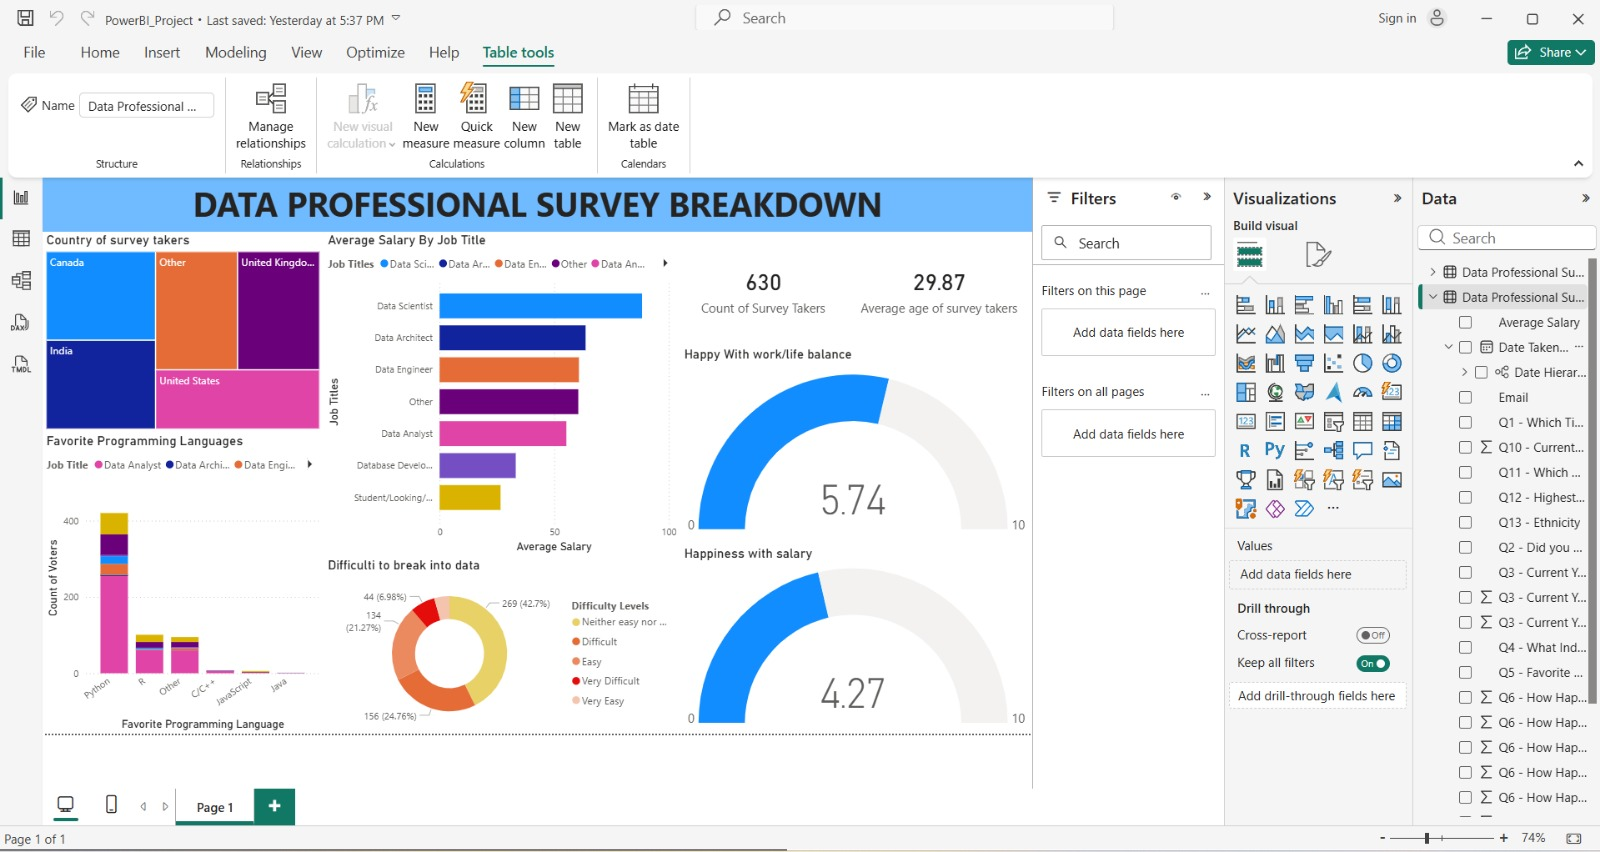

This screenshot's page, from the dashboard's own definition file:
{"tool":"powerbi","page":{"name":"Page 1","canvas":[1280,720],"ordinal":0},"visuals":[{"type":"textbox","box":[0,0,1280.3,70.1],"z":0},{"type":"card","fields":{"Values":["Data Professional Survey.Email"]},"box":[824.6,70.2,214.8,148.7],"z":1},{"type":"card","fields":{"Values":["Data Professional Survey.Q10 - Current Age"]},"box":[1039.4,70.2,240.9,148.7],"z":2},{"type":"barChart","title":"Average Salary By Job Title","fields":{"Category":["Data Professional Survey.Q1 - Which Title Best Fits your Current Role?.1"],"Y":["Data Professional Survey.Average Salary"],"Series":["Data Professional Survey.Q1 - Which Title Best Fits your Current Role?.1"]},"box":[363.4,70.2,461.2,419.9],"z":3},{"type":"columnChart","title":"Favorite Programming Languages","fields":{"Category":["Data Professional Survey.Q5 - Favorite Programming Language.1"],"Y":["Data Professional Survey.Email"],"Series":["Data Professional Survey.Q1 - Which Title Best Fits your Current Role?.1"]},"box":[0,330.4,363.4,389.6],"z":4},{"type":"treemap","title":"Country of survey takers","fields":{"Group":["Data Professional Survey.Q11 - Which Country do you live in?.1"],"Values":["Data Professional Survey.Q11 - Which Country do you live in?.1"]},"box":[0,70.2,363.4,260.2],"z":5},{"type":"gauge","title":"Happy With work/life balance","fields":{"Y":["Data Professional Survey.Q6 - How Happy are you in your Current Position with the following? (Work/Life Balance)"],"MinValue":["Sum(Data Professional Survey.Q6 - How Happy are you in your Current Position with the following? (Work/Life Balance))1"],"MaxValue":["Sum(Data Professional Survey.Q6 - How Happy are you in your Current Position with the following? (Work/Life Balance))2"]},"box":[824.6,218.9,455.7,257.4],"z":6},{"type":"gauge","title":"Happiness with salary","fields":{"Y":["Data Professional Survey.Q6 - How Happy are you in your Current Position with the following? (Salary)"],"MinValue":["Sum(Data Professional Survey.Q6 - How Happy are you in your Current Position with the following? (Salary))1"],"MaxValue":["Data Professional Survey.Q6 - How Happy are you in your Current Position with the following? (Salary)"]},"box":[824.6,476.3,455.7,243.7],"z":7},{"type":"donutChart","title":"Difficulti to break into data","fields":{"Category":["Data Professional Survey.Q7 - How difficult was it for you to break into Data?"],"Y":["Data Professional Survey.Q7 - How difficult was it for you to break into Data?"]},"box":[363.4,490.1,461.2,229.9],"z":8}]}

Visuals, with their boxes on the page's 1280x720 design canvas (x1, y1, x2, y2). These are canvas units, not pixel positions in the 1600x852 screenshot, which may show the page scaled, cropped or inside an application window:
textbox: left=0, top=0, right=1280, bottom=70
card - Data Professional Survey.Email: left=825, top=70, right=1039, bottom=219
card - Data Professional Survey.Q10 - Current Age: left=1039, top=70, right=1280, bottom=219
"Average Salary By Job Title" barChart: left=363, top=70, right=825, bottom=490
"Favorite Programming Languages" columnChart: left=0, top=330, right=363, bottom=720
"Country of survey takers" treemap: left=0, top=70, right=363, bottom=330
"Happy With work/life balance" gauge: left=825, top=219, right=1280, bottom=476
"Happiness with salary" gauge: left=825, top=476, right=1280, bottom=720
"Difficulti to break into data" donutChart: left=363, top=490, right=825, bottom=720
